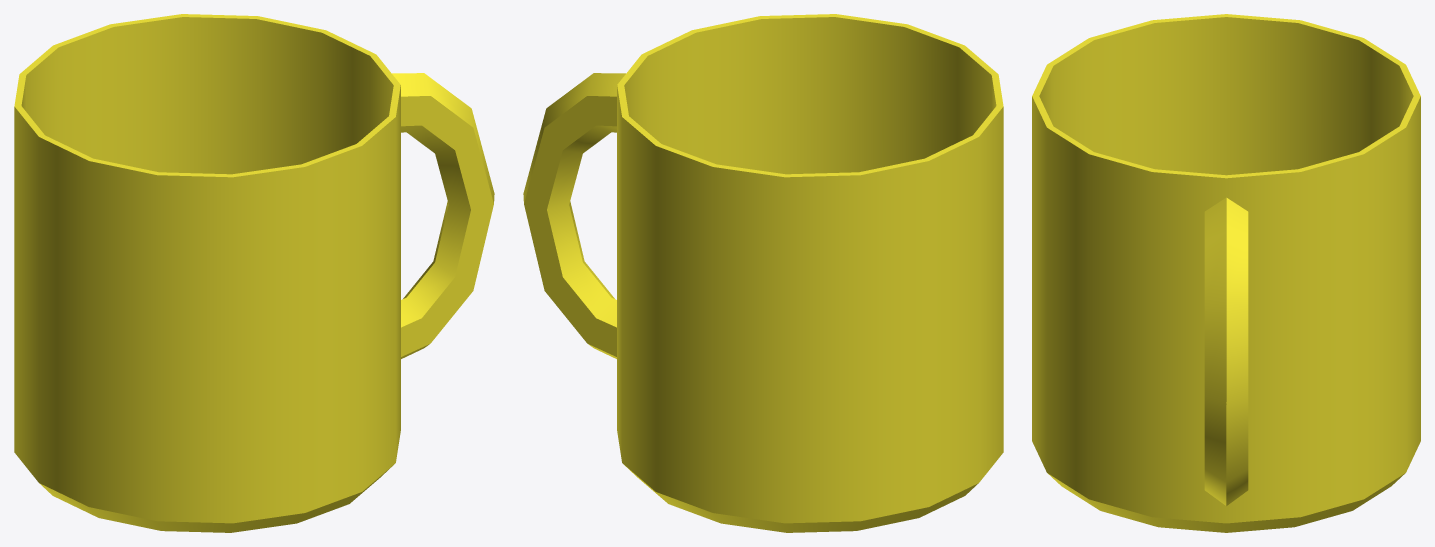
File: Taza06.fbx
3 views of the same model, side by side, from view 1: azimuth 30°, elevation 25°; view 2: azimuth 150°, elevation 25°; view 3: azimuth 270°, elevation 25° (orthographic).
Parts seen in each view (by area): view 1: Taza06; view 2: Taza06; view 3: Taza06.
Part boxes in pixels (x1=…): Taza06: x1=14, y1=14, x2=494, y2=532; Taza06: x1=523, y1=14, x2=1003, y2=532; Taza06: x1=1032, y1=14, x2=1420, y2=532.
Bounding box in the file's own units: 10.46 × 7.95 × 7.75.
